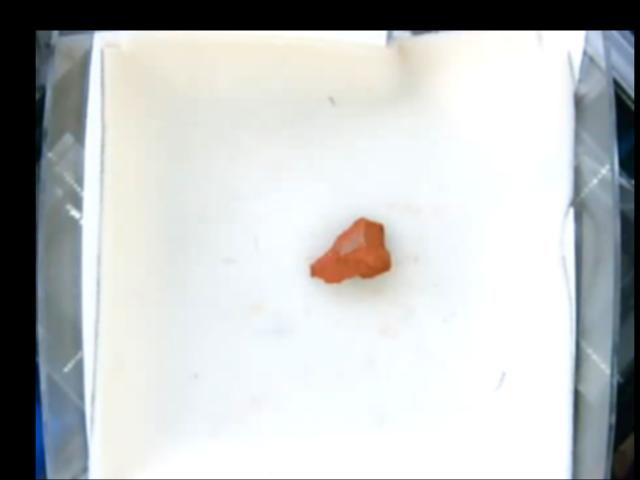Brisk: (307, 217, 392, 283)
